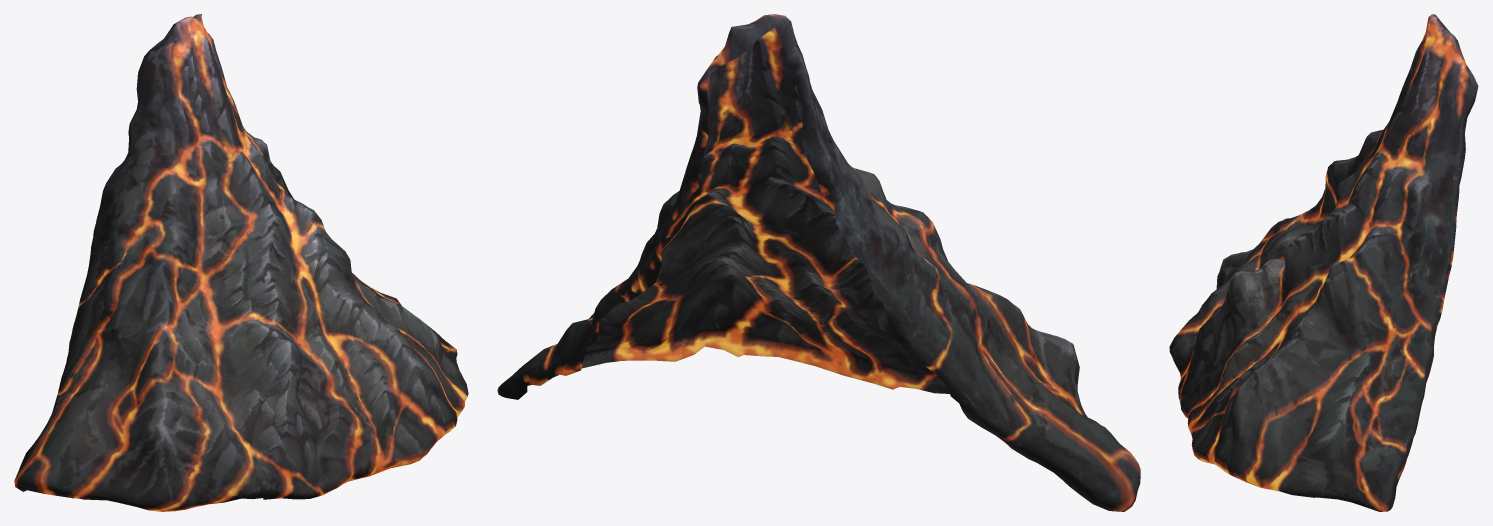
Rendered from bg_lava_rock_volcano_001.fbx.
3 renders of one model, left to right at view 1: azimuth 30°, elevation 25°; view 2: azimuth 150°, elevation 25°; view 3: azimuth 270°, elevation 25°, orthographic. The views are drawn at different scales.
Visible parts, largest first — view 1: bg_lava_rock_volcano_001; view 2: bg_lava_rock_volcano_001; view 3: bg_lava_rock_volcano_001.
Part boxes in pixels (box(x1,y1,x2,y2)): bg_lava_rock_volcano_001: box(14, 14, 468, 511); bg_lava_rock_volcano_001: box(497, 14, 1140, 511); bg_lava_rock_volcano_001: box(1169, 14, 1478, 511).
Bounding box in the file's own units: 78.97 × 62.47 × 44.81.
Materials: 1 (1 with a texture image).
